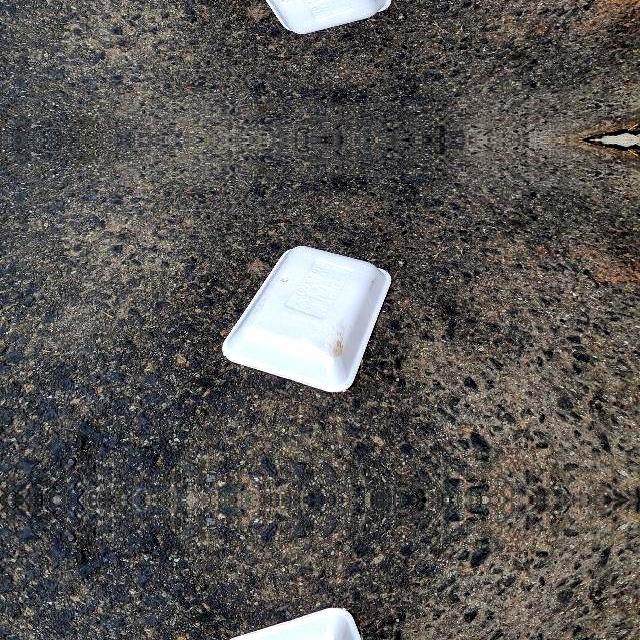Styrofoam: (222, 245, 392, 392), (222, 246, 392, 392), (222, 0, 391, 34), (222, 607, 391, 640)
